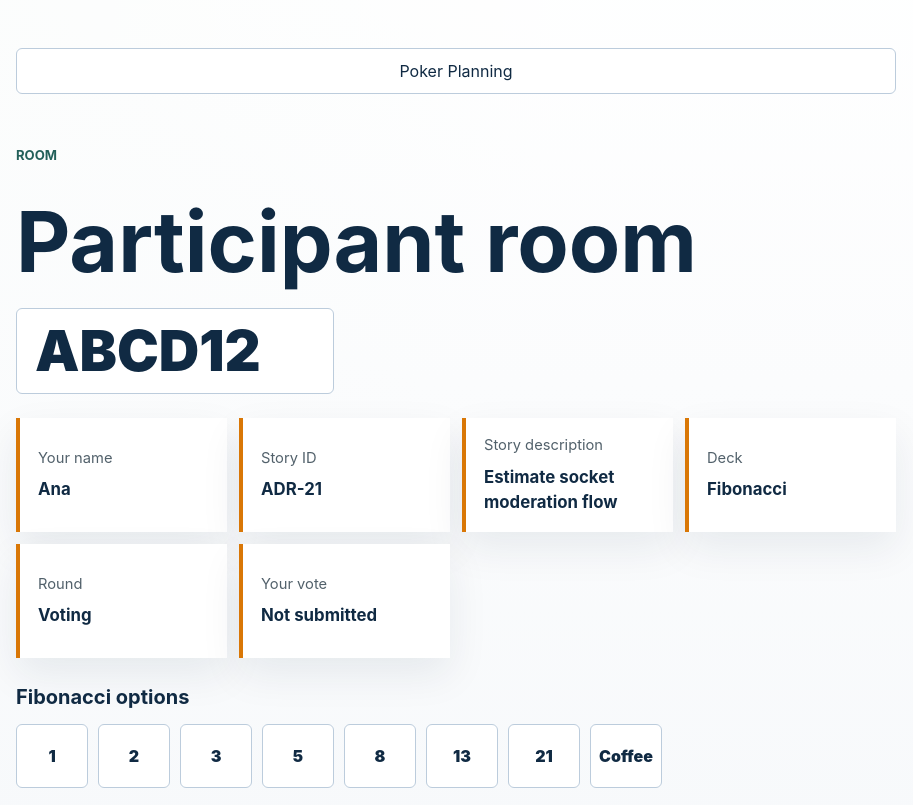
Scenario: ParticipantSessionView › shows readable vote errors from stable server failures
Click the button named "Submit vote 8".
click(380, 756)  # box [344,724,416,788]
(page scrolled)
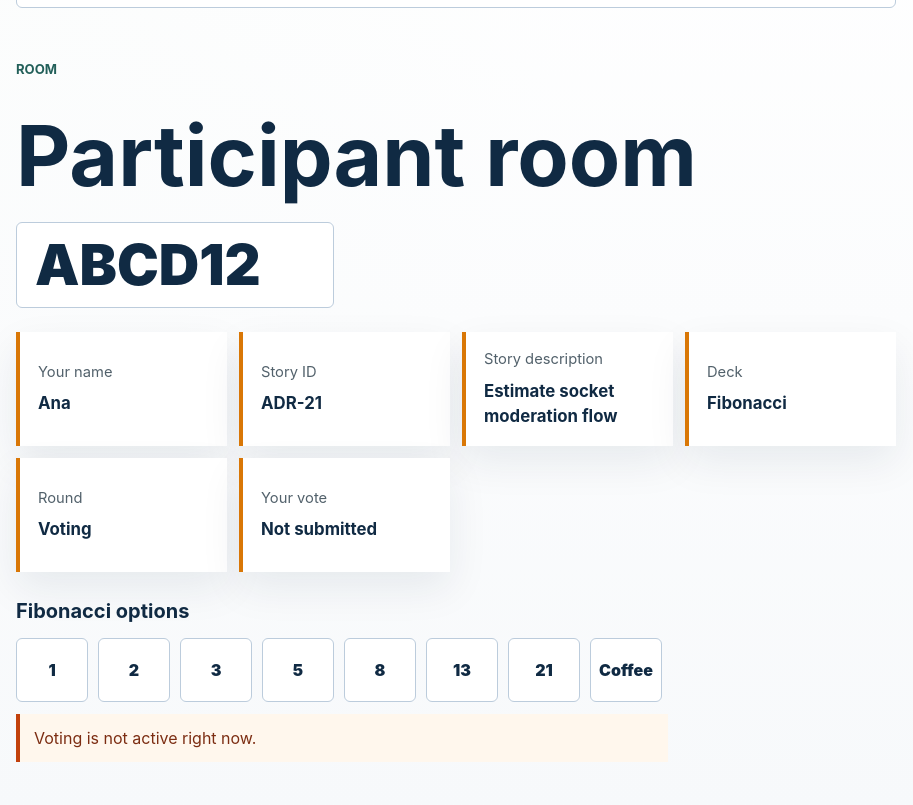
Expected: the message reads "Voting is not active right now.", [34,728,256,748]
